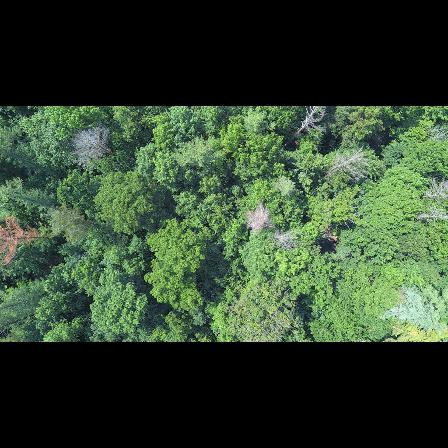Dead: (74, 126, 117, 167), (284, 106, 330, 144), (324, 149, 374, 176), (248, 200, 273, 234), (273, 225, 300, 251), (416, 207, 448, 226), (418, 180, 448, 200)
